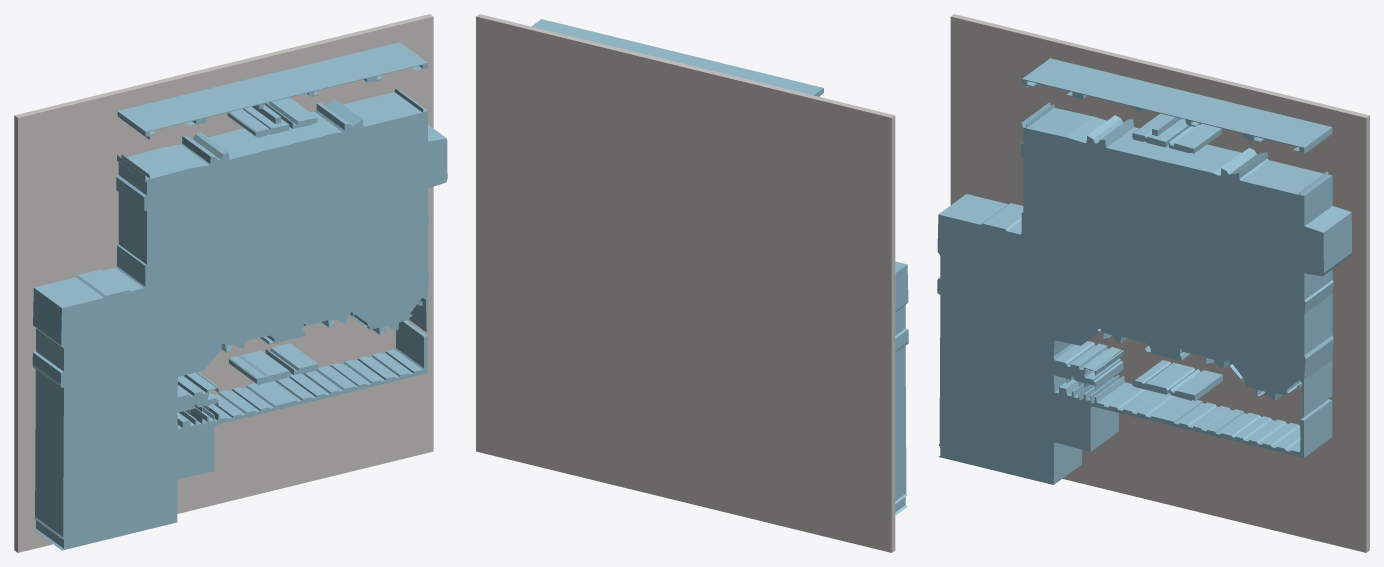
3 renders of one model, left to right at view 1: azimuth 30°, elevation 25°; view 2: azimuth 150°, elevation 25°; view 3: azimuth 330°, elevation 25°, orthographic.
Parts seen in each view (by area): view 1: world; view 2: world; view 3: world.
Part boxes in pixels (left/top/right/bottom): world: left=14, top=14, right=447, bottom=552; world: left=476, top=14, right=908, bottom=552; world: left=937, top=14, right=1369, bottom=552.
Bounding box in the file's own units: 10.23 × 10.23 × 1.35.
